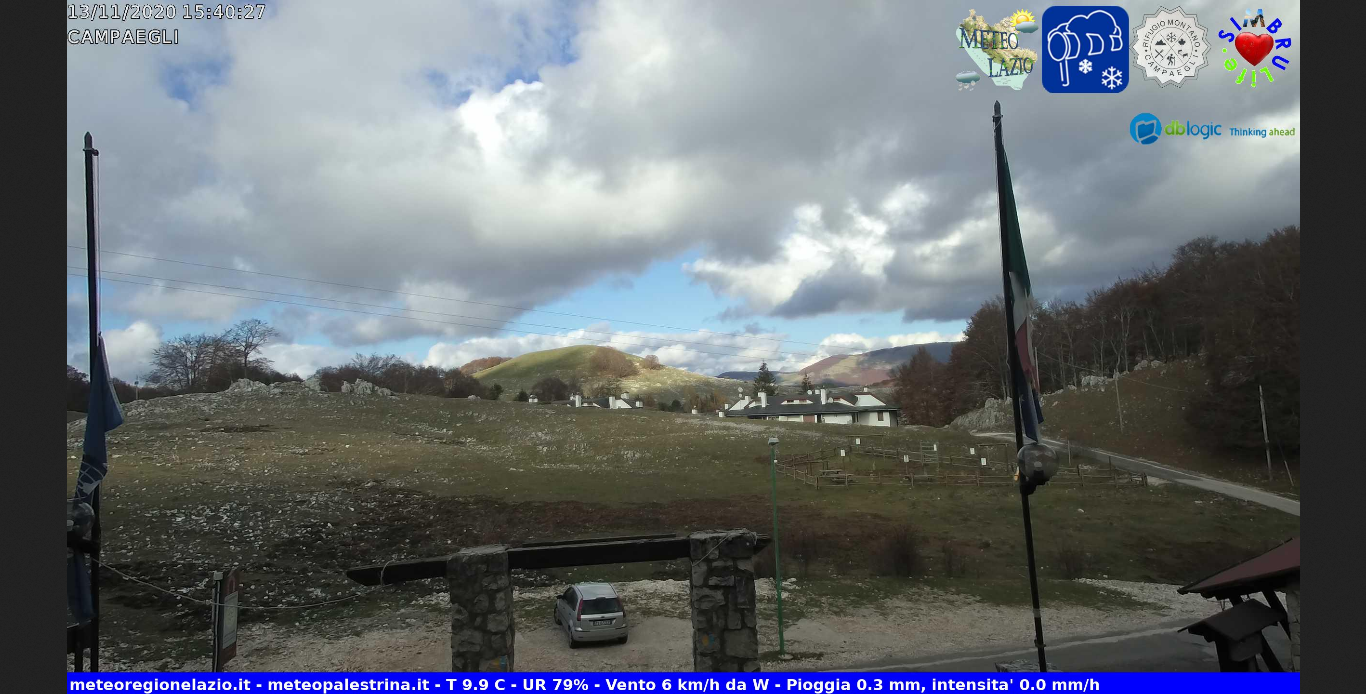no: (983, 98, 1055, 458)
